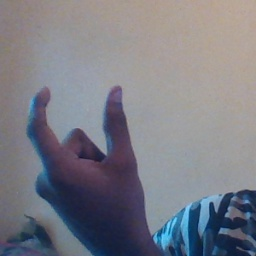U: (23, 79, 145, 219)
